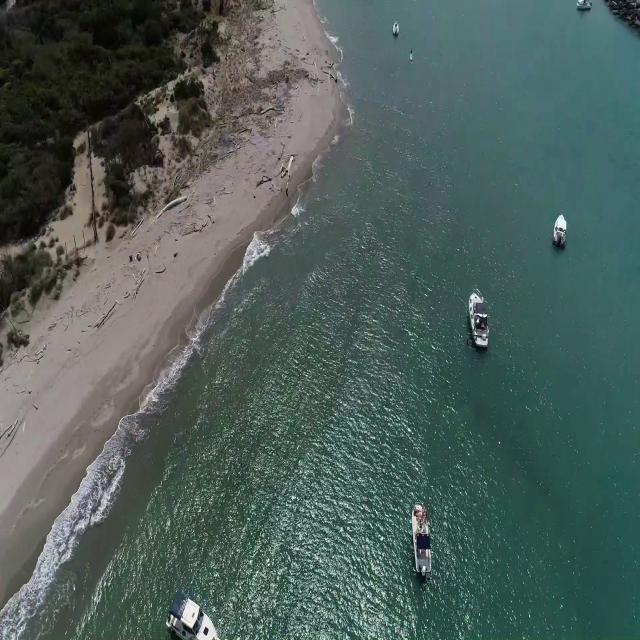boat: (168, 593, 221, 640), (412, 501, 434, 581), (469, 288, 492, 352), (555, 217, 570, 252), (578, 0, 593, 11), (394, 21, 403, 37)
person: (412, 45, 416, 56)
surfboard: (410, 53, 418, 66)
wood: (255, 150, 298, 196)
